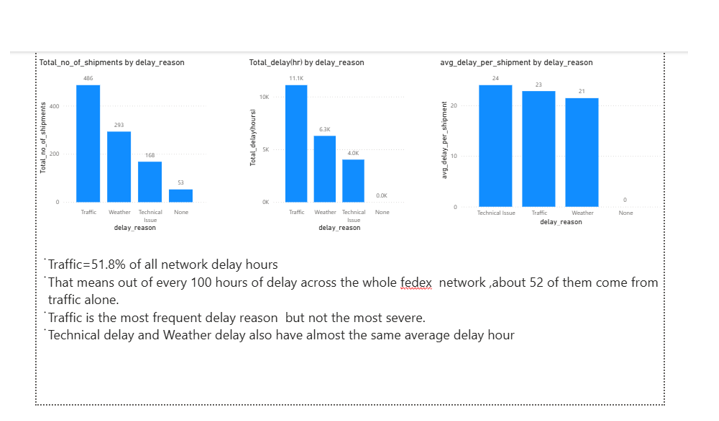

The page's visual inventory and layout, read from the dashboard file:
{"tool":"powerbi","page":{"name":"traffic_delay","canvas":[1280,720],"ordinal":3},"visuals":[{"type":"columnChart","title":"Total_no_of_shipments by delay_reason","fields":{"Category":["shipment_delay_new.delay_reason"],"Y":["Sum(shipment_delay_new.no_of_shipments)"]},"box":[0,11.8,351.2,360],"z":0},{"type":"columnChart","title":"Total_delay(hr) by delay_reason","fields":{"Category":["shipment_delay_new.delay_reason"],"Y":["Sum(shipment_delay_new.Total_delay)"]},"box":[429.1,11.8,329.1,360],"z":1000},{"type":"textbox","box":[0,410,1279.8,310],"z":2000},{"type":"columnChart","fields":{"Category":["shipment_delay_new.delay_reason"],"Y":["shipment_delay_new.avg_delay_per_shipment"]},"box":[819.9,11.8,459.9,348.2],"z":3000}]}

Visuals, with their boxes on the page's 1280x720 design canvas (x1, y1, x2, y2). These are canvas units, not pixel positions in the 719x421 screenshot, which may show the page scaled, cropped or inside an application window:
"Total_no_of_shipments by delay_reason" columnChart: <region>0, 12, 351, 372</region>
"Total_delay(hr) by delay_reason" columnChart: <region>429, 12, 758, 372</region>
textbox: <region>0, 410, 1280, 720</region>
columnChart - shipment_delay_new.delay_reason x shipment_delay_new.avg_delay_per_shipment: <region>820, 12, 1280, 360</region>
